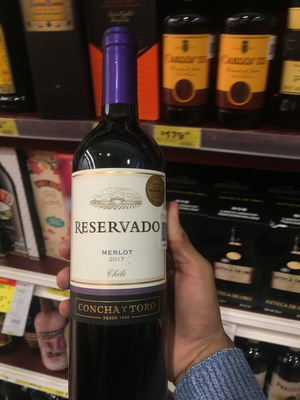reservado merlot: (56, 29, 189, 398)
